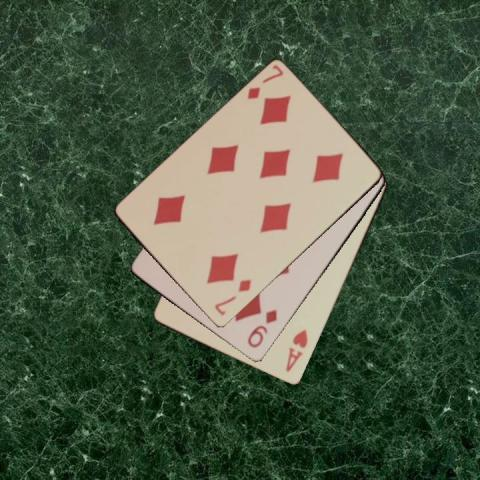7d: (212, 277, 253, 317), (244, 62, 285, 101)
9d: (244, 306, 279, 350)
Ah: (283, 326, 309, 374)
